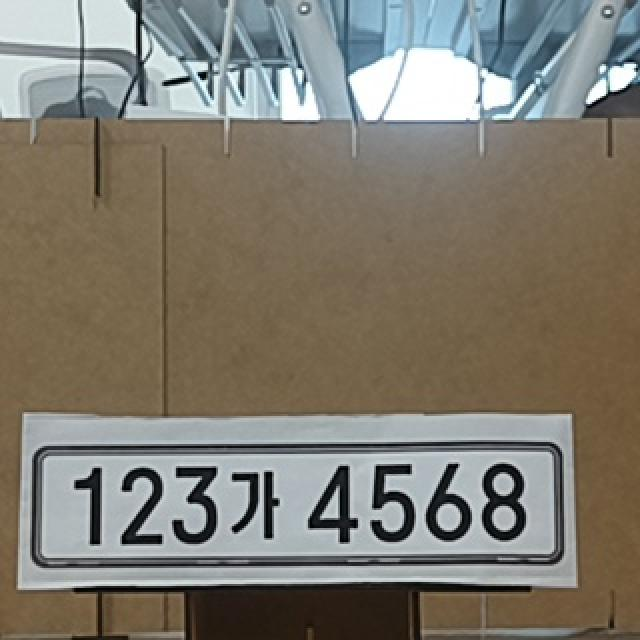normal: (33, 446, 562, 564)
